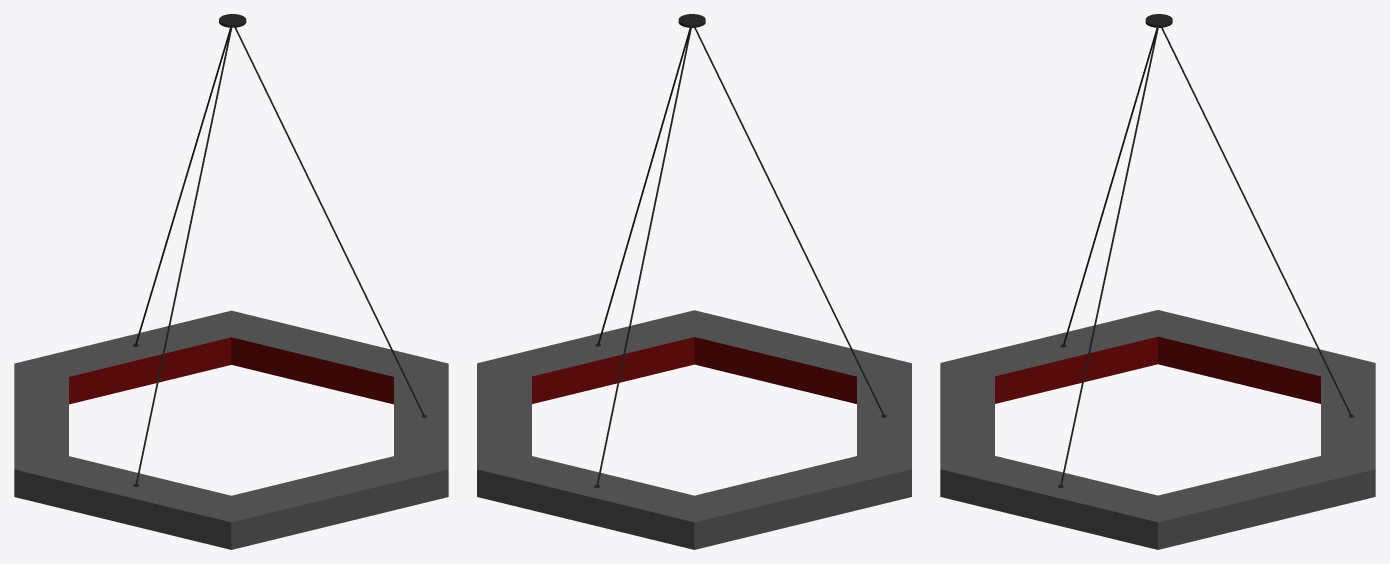
The model's file is BP_hanging_lights_hexagon.FBX.
The picture shows the model from 3 angles, left to right: view 1: azimuth 30°, elevation 25°; view 2: azimuth 150°, elevation 25°; view 3: azimuth 270°, elevation 25°; orthographic projection.
Parts seen in each view (by area): view 1: Light hanging hexagon, Group_5131, Group_5129, Group_5130; view 2: Light hanging hexagon, Group_5130, Group_5131, Group_5129; view 3: Light hanging hexagon, Group_5129, Group_5130, Group_5131.
Part boxes in pixels (box(x1,y1,x2,y2)): Light hanging hexagon: box(14, 14, 448, 549); Group_5131: box(133, 27, 232, 486); Group_5129: box(234, 27, 427, 417); Group_5130: box(133, 27, 230, 346); Light hanging hexagon: box(477, 14, 911, 549); Group_5130: box(594, 28, 691, 487); Group_5131: box(694, 27, 886, 417); Group_5129: box(595, 28, 689, 346); Light hanging hexagon: box(940, 14, 1375, 549); Group_5129: box(1058, 28, 1158, 487); Group_5130: box(1161, 27, 1354, 417); Group_5131: box(1060, 28, 1156, 347).
Bounding box in the file's own units: 47.85 × 44.62 × 41.44.
